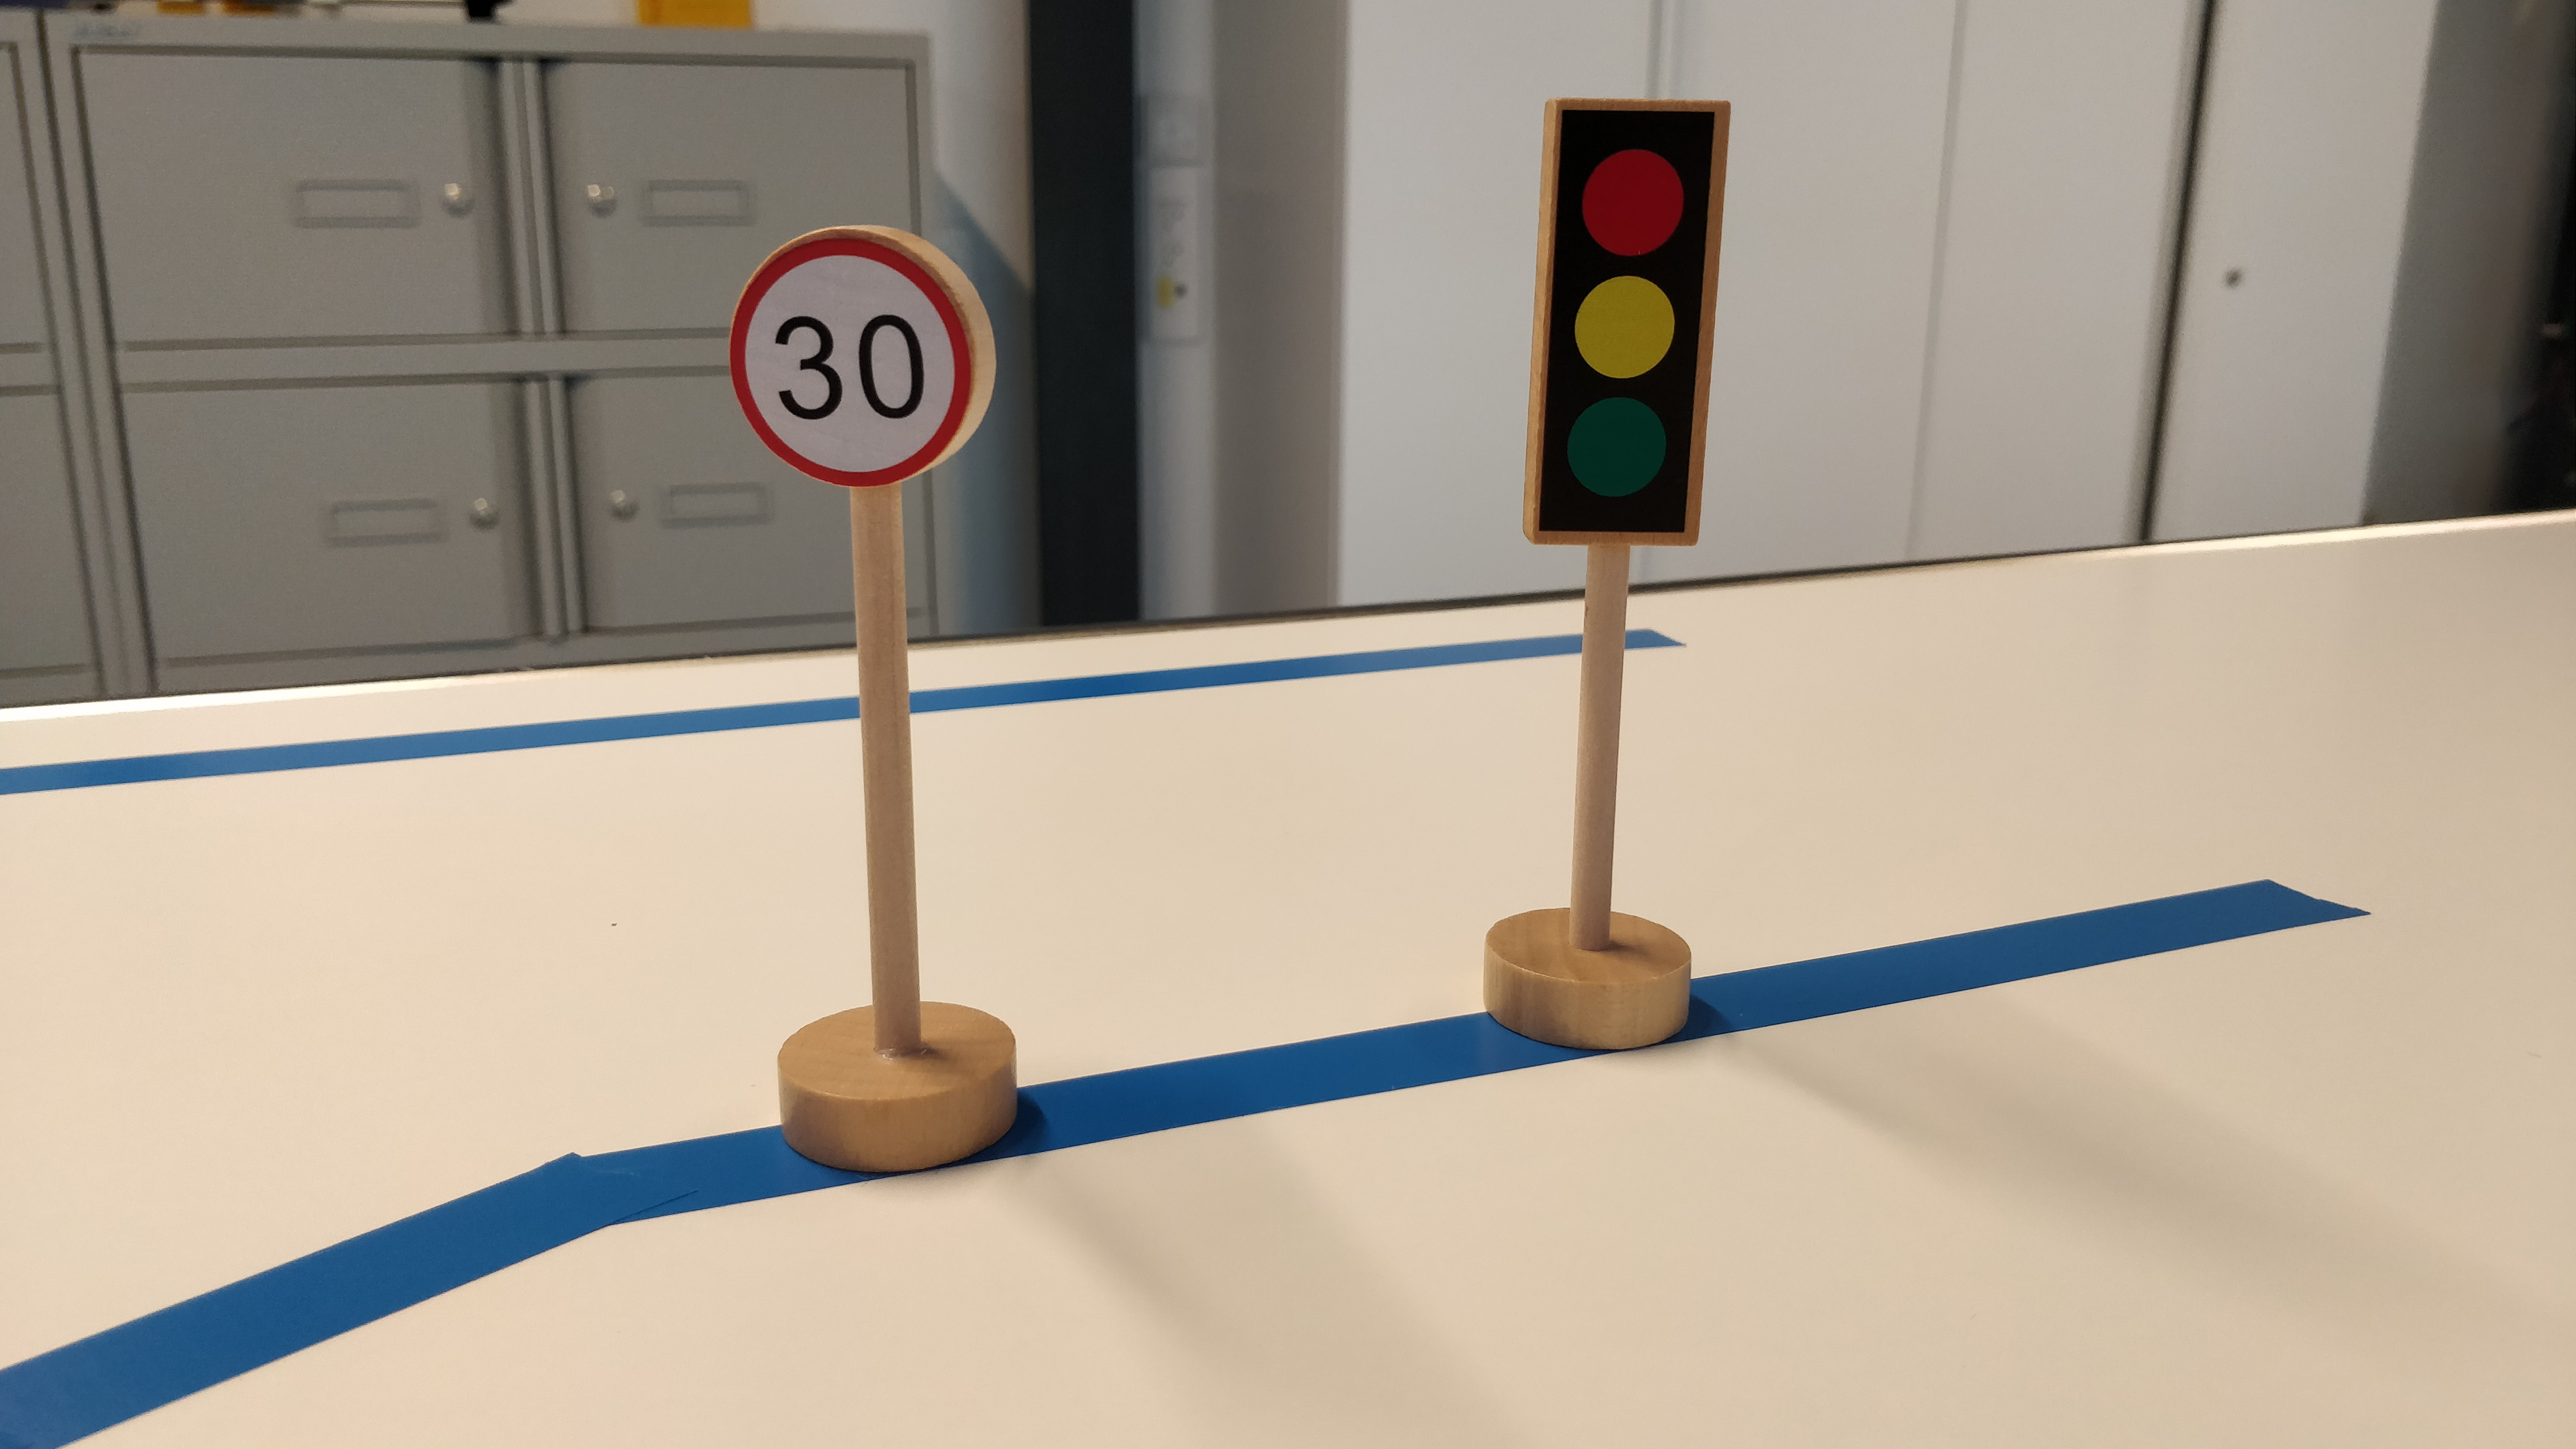Speed Limit 30: (726, 219, 1001, 495)
Traffic Light: (1518, 93, 1734, 550)
